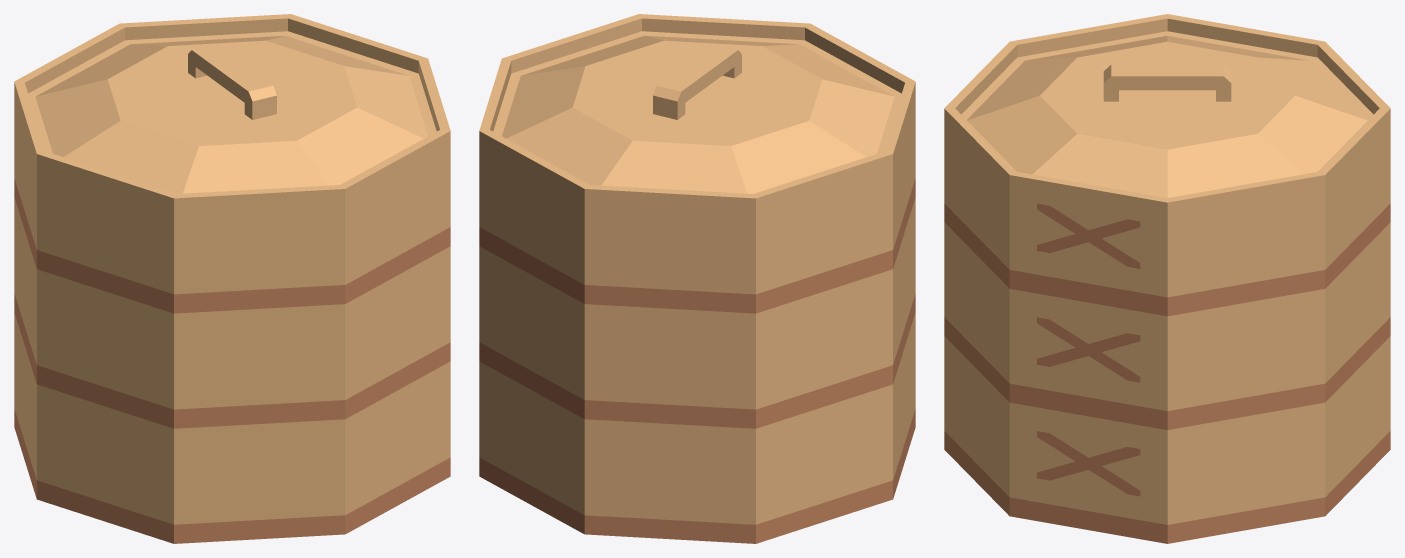
Rendered from steamer.fbx.
The picture shows the model from 3 angles, left to right: view 1: azimuth 30°, elevation 25°; view 2: azimuth 150°, elevation 25°; view 3: azimuth 270°, elevation 25°; orthographic projection.
Parts seen in each view (by area): view 1: layer (×3), lid; view 2: layer (×3), lid; view 3: layer (×3), lid.
Boxes of the visible parts, left/top/right/bottom form: layer (×3): left=14, top=14, right=450, bottom=543; lid: left=35, top=35, right=427, bottom=193; layer (×3): left=479, top=14, right=915, bottom=543; lid: left=502, top=35, right=894, bottom=193; layer (×3): left=944, top=14, right=1390, bottom=543; lid: left=967, top=35, right=1367, bottom=197.
Size of the model in its own units: 6.4 by 6 by 6.4.
